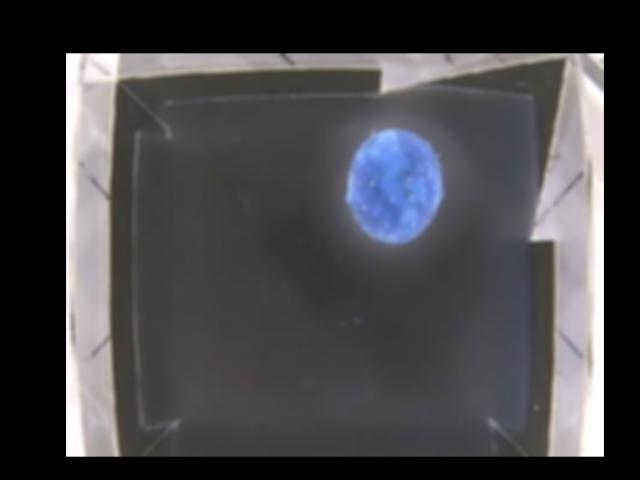Potato: (348, 129, 442, 244)
